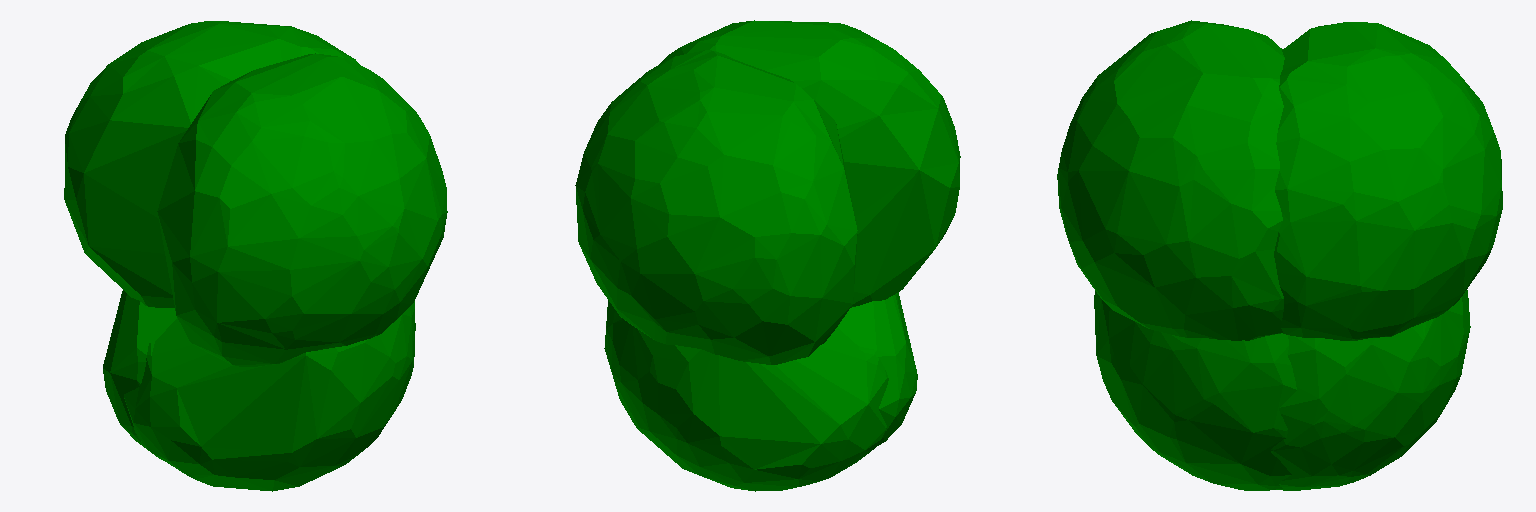
robot.urdf — talos_trunk:
<?xml version="1.0" ?>
<robot name="talos_trunk" xmlns:controller="http://playerstage.sourceforge.net/gazebo/xmlschema/#controller" xmlns:interface="http://playerstage.sourceforge.net/gazebo/xmlschema/#interface" xmlns:sensor="http://playerstage.sourceforge.net/gazebo/xmlschema/#sensor" xmlns:xacro="http://ros.org/wiki/xacro">

  <link name="torso_2_link">
    <visual>
      <origin rpy="0 0 0" xyz="0 0 0"/>
      <geometry>
        <mesh filename="package://talos-rbprm/meshes/talos_trunk_upper_visual.dae" scale="1 1 1"/>
      </geometry>
    </visual>
    <collision>
      <origin rpy="0 0 0" xyz="0 0 0"/>
      <geometry>
        <mesh filename="package://talos-rbprm/meshes/talos_trunk_upper.stl" scale="1 1 1"/>
      </geometry>
    </collision>
  </link>
  <!--************************-->
  <!--        TORSO_1  (PAN)  -->
  <!--************************-->
  <link name="torso_1_link">
  </link>
  <joint name="torso_1_joint" type="revolute">
    <parent link="base_link"/>
    <child link="torso_1_link"/>
    <origin rpy="0.0 0.0 0.0" xyz="0.0 0.0 0.0722"/>
    <axis xyz="0 0 1"/>
    <limit effort="78.0" lower="-1.25663706144" upper="1.25663706144" velocity="5.4"/>
  </joint>
  <!--************************-->
  <!--        BASE_LINK       -->
  <!--************************-->
  <link name="base_link">
  <inertial>
     <mass value="90.27"/>
     <inertia ixx="1." ixy="0.0" ixz="0.0" iyy="1." iyz="0.0" izz="1."/>
  </inertial>
    <visual>
      <origin rpy="0 0 0" xyz="0 0 0"/>
      <geometry>
        <mesh filename="package://talos-rbprm/meshes/talos_trunk_lower_visual.dae" scale="1 1 1"/>
      </geometry>
    </visual>    
    <collision>
      <origin rpy="0 0 0" xyz="0 0 0"/>
      <geometry>
        <mesh filename="package://talos-rbprm/meshes/talos_trunk_lower.stl" scale="1 1 1"/>
      </geometry>
    </collision>
  </link>
  <joint name="torso_2_joint" type="revolute">
    <parent link="torso_1_link"/>
    <child link="torso_2_link"/>
    <origin rpy="0.0 0.0 0.0" xyz="0.0 0.0 0.0"/>
    <axis xyz="0 1 0"/>
    <limit effort="78.0" lower="-0.226892802759" upper="0.733038285838" velocity="5.4"/>
  </joint>
  <!-- define global properties -->
  <!-- <xacro:property name="M_PI" value="3.1415926535897931" /> -->
  <!-- Materials for visualization -->
  <material name="Blue">
    <color rgba="0.0 0.0 0.8 1.0"/>
  </material>
  <material name="Green">
    <color rgba="0.0 0.8 0.0 1.0"/>
  </material>
  <material name="GreenPale">
    <color rgba="0.0 0.8 0.0 0.01"/>
  </material>
  <material name="Grey">
    <color rgba="0.7 0.7 0.7 1.0"/>
  </material>
  <material name="LightGrey">
    <color rgba="0.9 0.9 0.9 1.0"/>
  </material>
  <material name="DarkGrey">
    <color rgba="0.2 0.2 0.2 1.0"/>
  </material>
  <material name="Red">
    <color rgba="0.8 0.0 0.0 1.0"/>
  </material>
  <material name="White">
    <color rgba="1.0 1.0 1.0 1.0"/>
  </material>
  <material name="Orange">
    <color rgba="1.0 0.5 0.0 1.0"/>
  </material>
</robot>

--- What the picture shows (computed from the rendered views, not written in the file) ---
The picture shows the robot from 3 angles, left to right: view 1: azimuth 30°, elevation 25°; view 2: azimuth 150°, elevation 25°; view 3: azimuth 270°, elevation 25°; orthographic projection.
Robot: talos_trunk — 3 links, 2 joints (2 revolute); root link base_link; default pose: every joint at zero.
Visible links, largest first — view 1: torso_2_link, base_link; view 2: torso_2_link, base_link; view 3: torso_2_link, base_link.
Boxes of the visible links, <box> form: torso_2_link: <box>64,21,447,366</box>; base_link: <box>103,290,415,491</box>; torso_2_link: <box>575,20,960,364</box>; base_link: <box>604,292,917,491</box>; torso_2_link: <box>1057,20,1502,340</box>; base_link: <box>1094,290,1470,490</box>.
Size in the robot's own frame: 1.65 by 2.11 by 2.28 metres.
2 mesh visuals loaded from 2 distinct referenced files (2 Collada DAE).